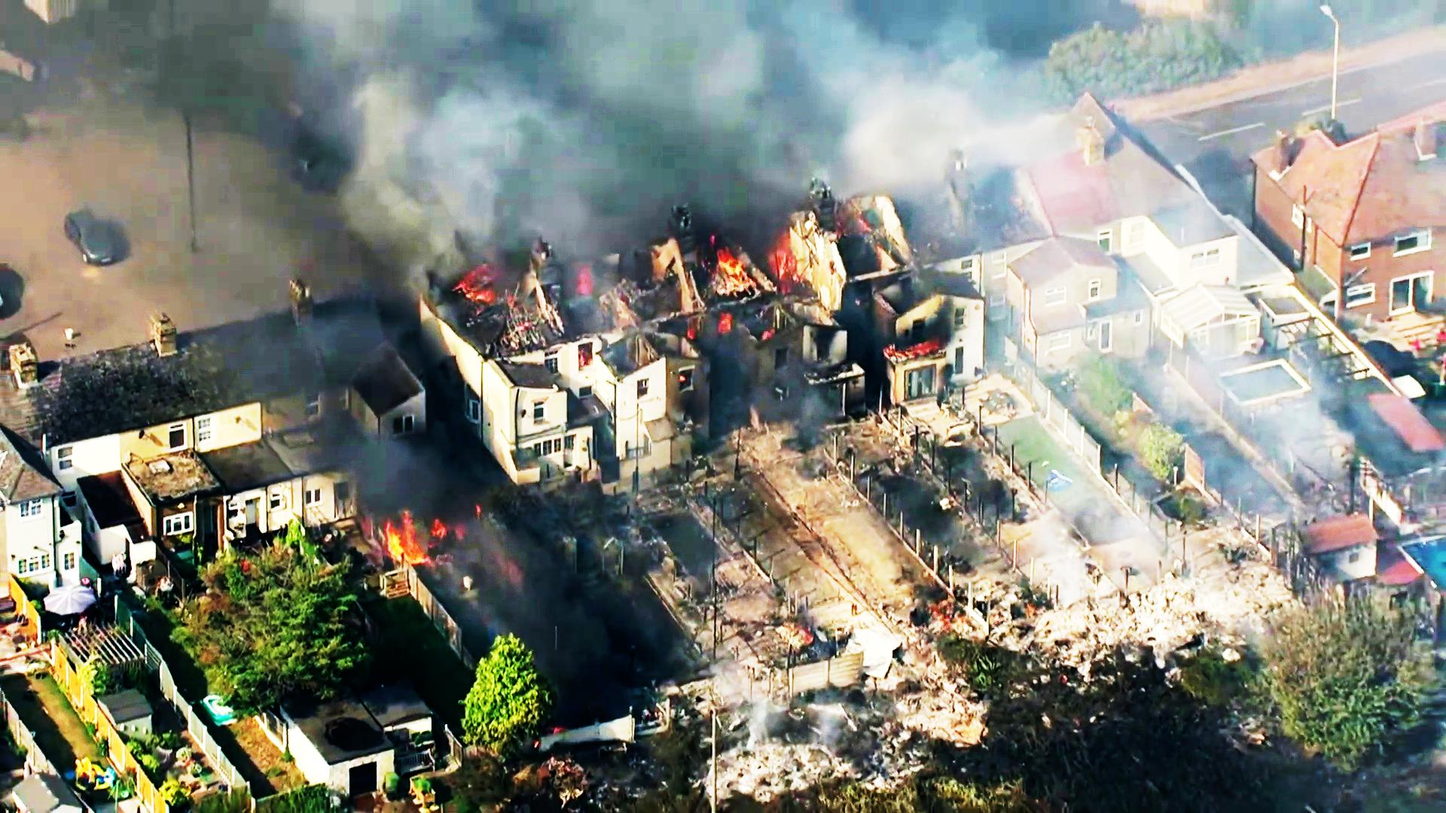fire: (366, 507, 474, 569)
smoke: (441, 0, 823, 191)
